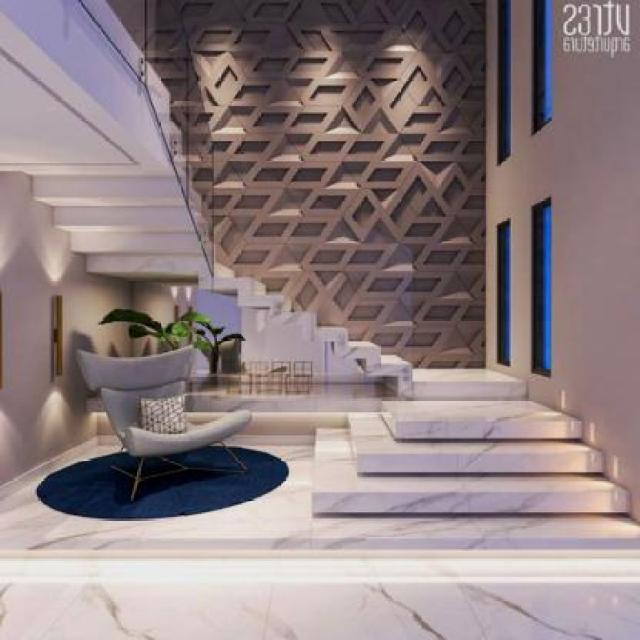stair: (212, 238, 606, 550)
